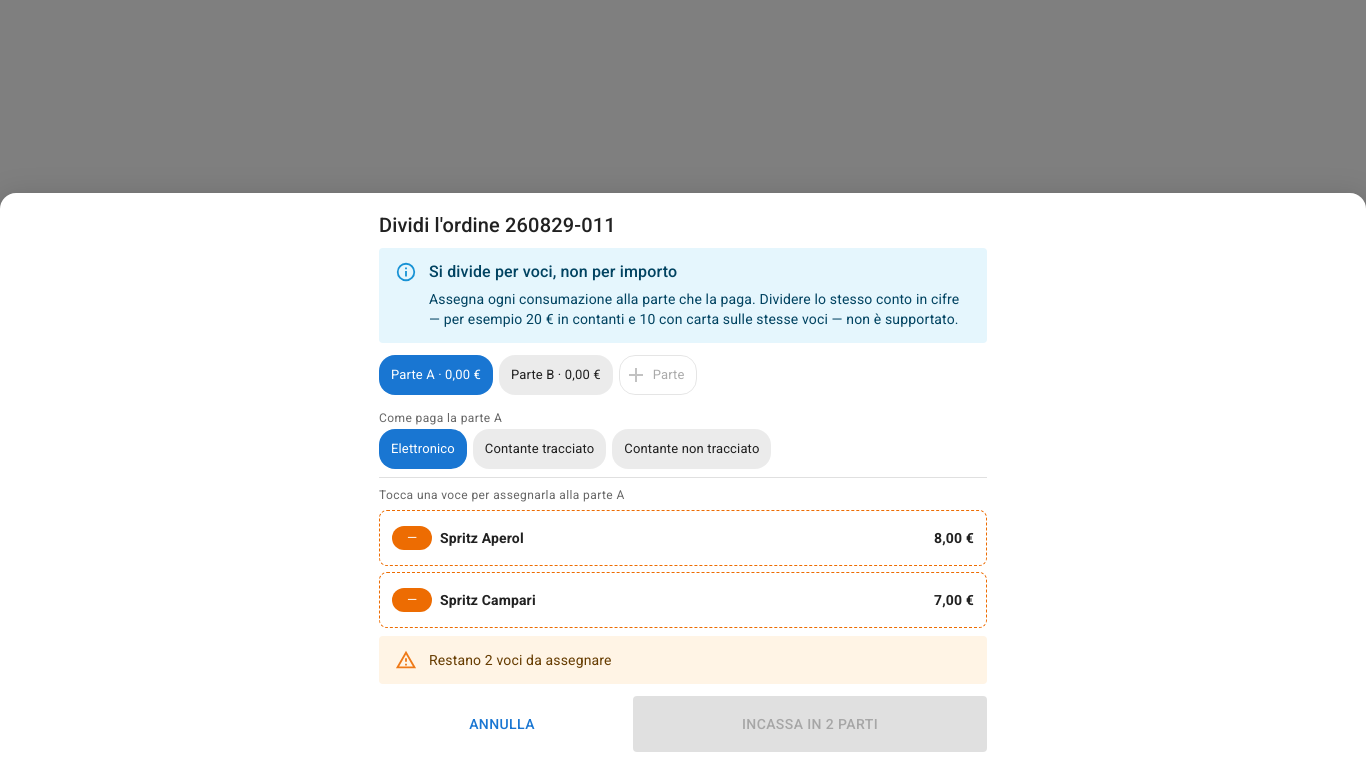
Test: SplitOrdine › non permette di confermare finché una voce non è assegnata
This screenshot has width=1366, height=768.
Check: the text "Restano 2 voci da assegnare" is shown, box [429,652,612,668]
Check: the button "Incassa in 2 parti" is disabled, box [633,696,987,752]
Step 1. Click the text "Spritz Aperol" → {"x": 482, "y": 538}, box [440,530,524,546]
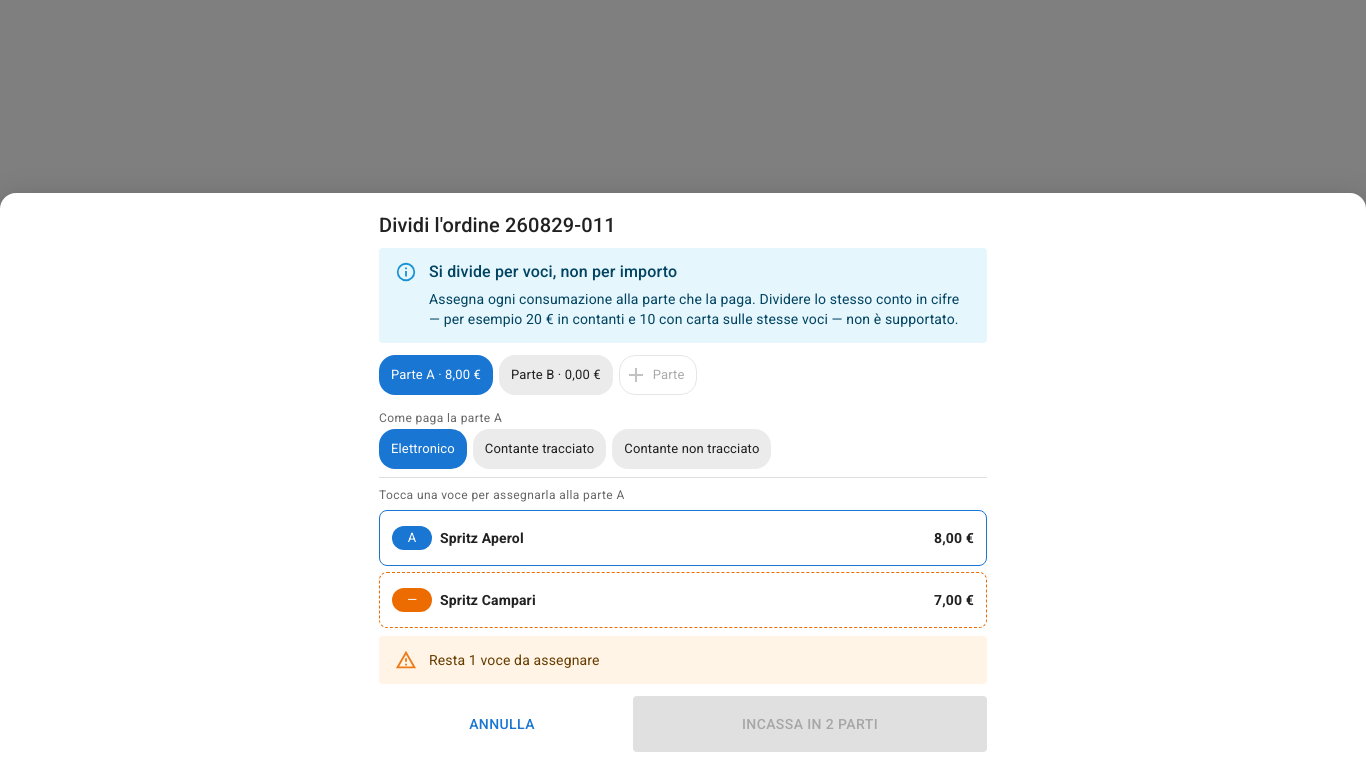
Check: the button "Incassa in 2 parti" is disabled, box [633,696,987,752]
Check: the text "Resta 1 voce da assegnare" is shown, box [429,652,600,668]
